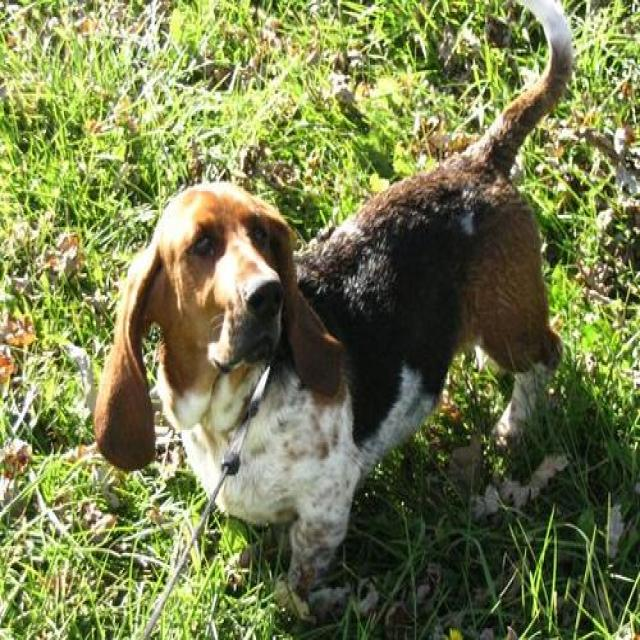basset: (92, 0, 575, 611)
